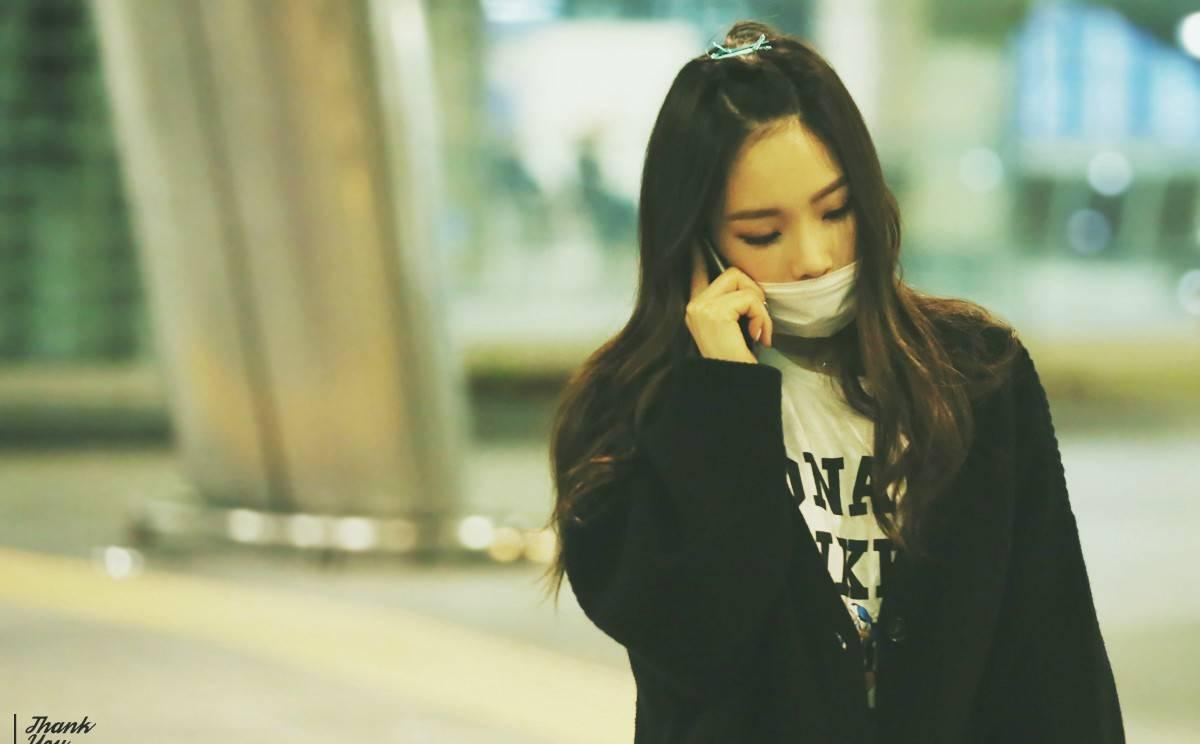WRONG: (720, 169, 893, 342)
